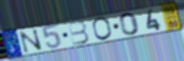0: (118, 12, 141, 37)
4: (146, 8, 163, 32)
5: (40, 23, 63, 51)
B: (67, 20, 91, 47)
N: (18, 28, 45, 54)
O: (91, 16, 114, 42)
